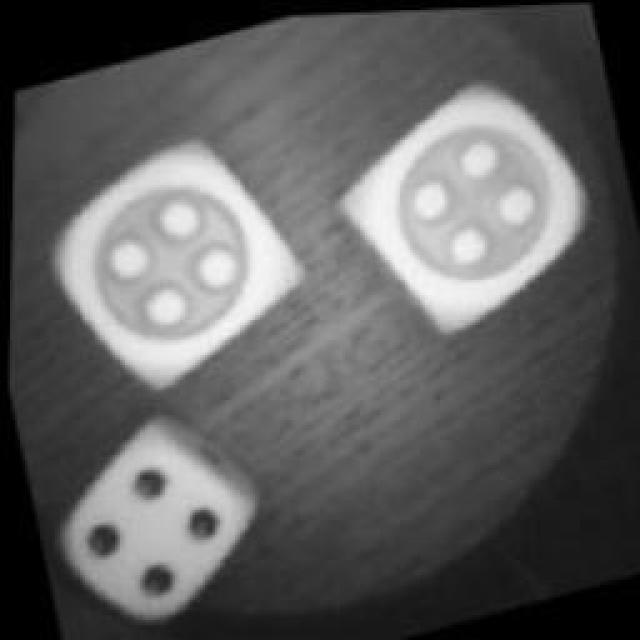dice_4: (322, 72, 612, 352), (32, 118, 312, 398), (48, 412, 268, 632)
